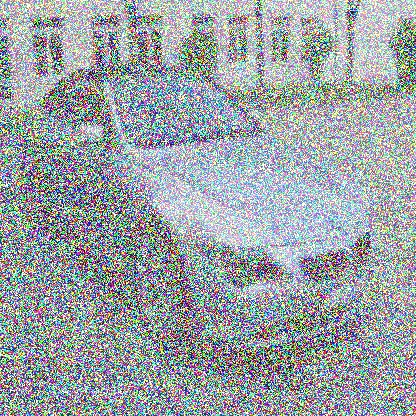Vehicle: (18, 62, 384, 359)
